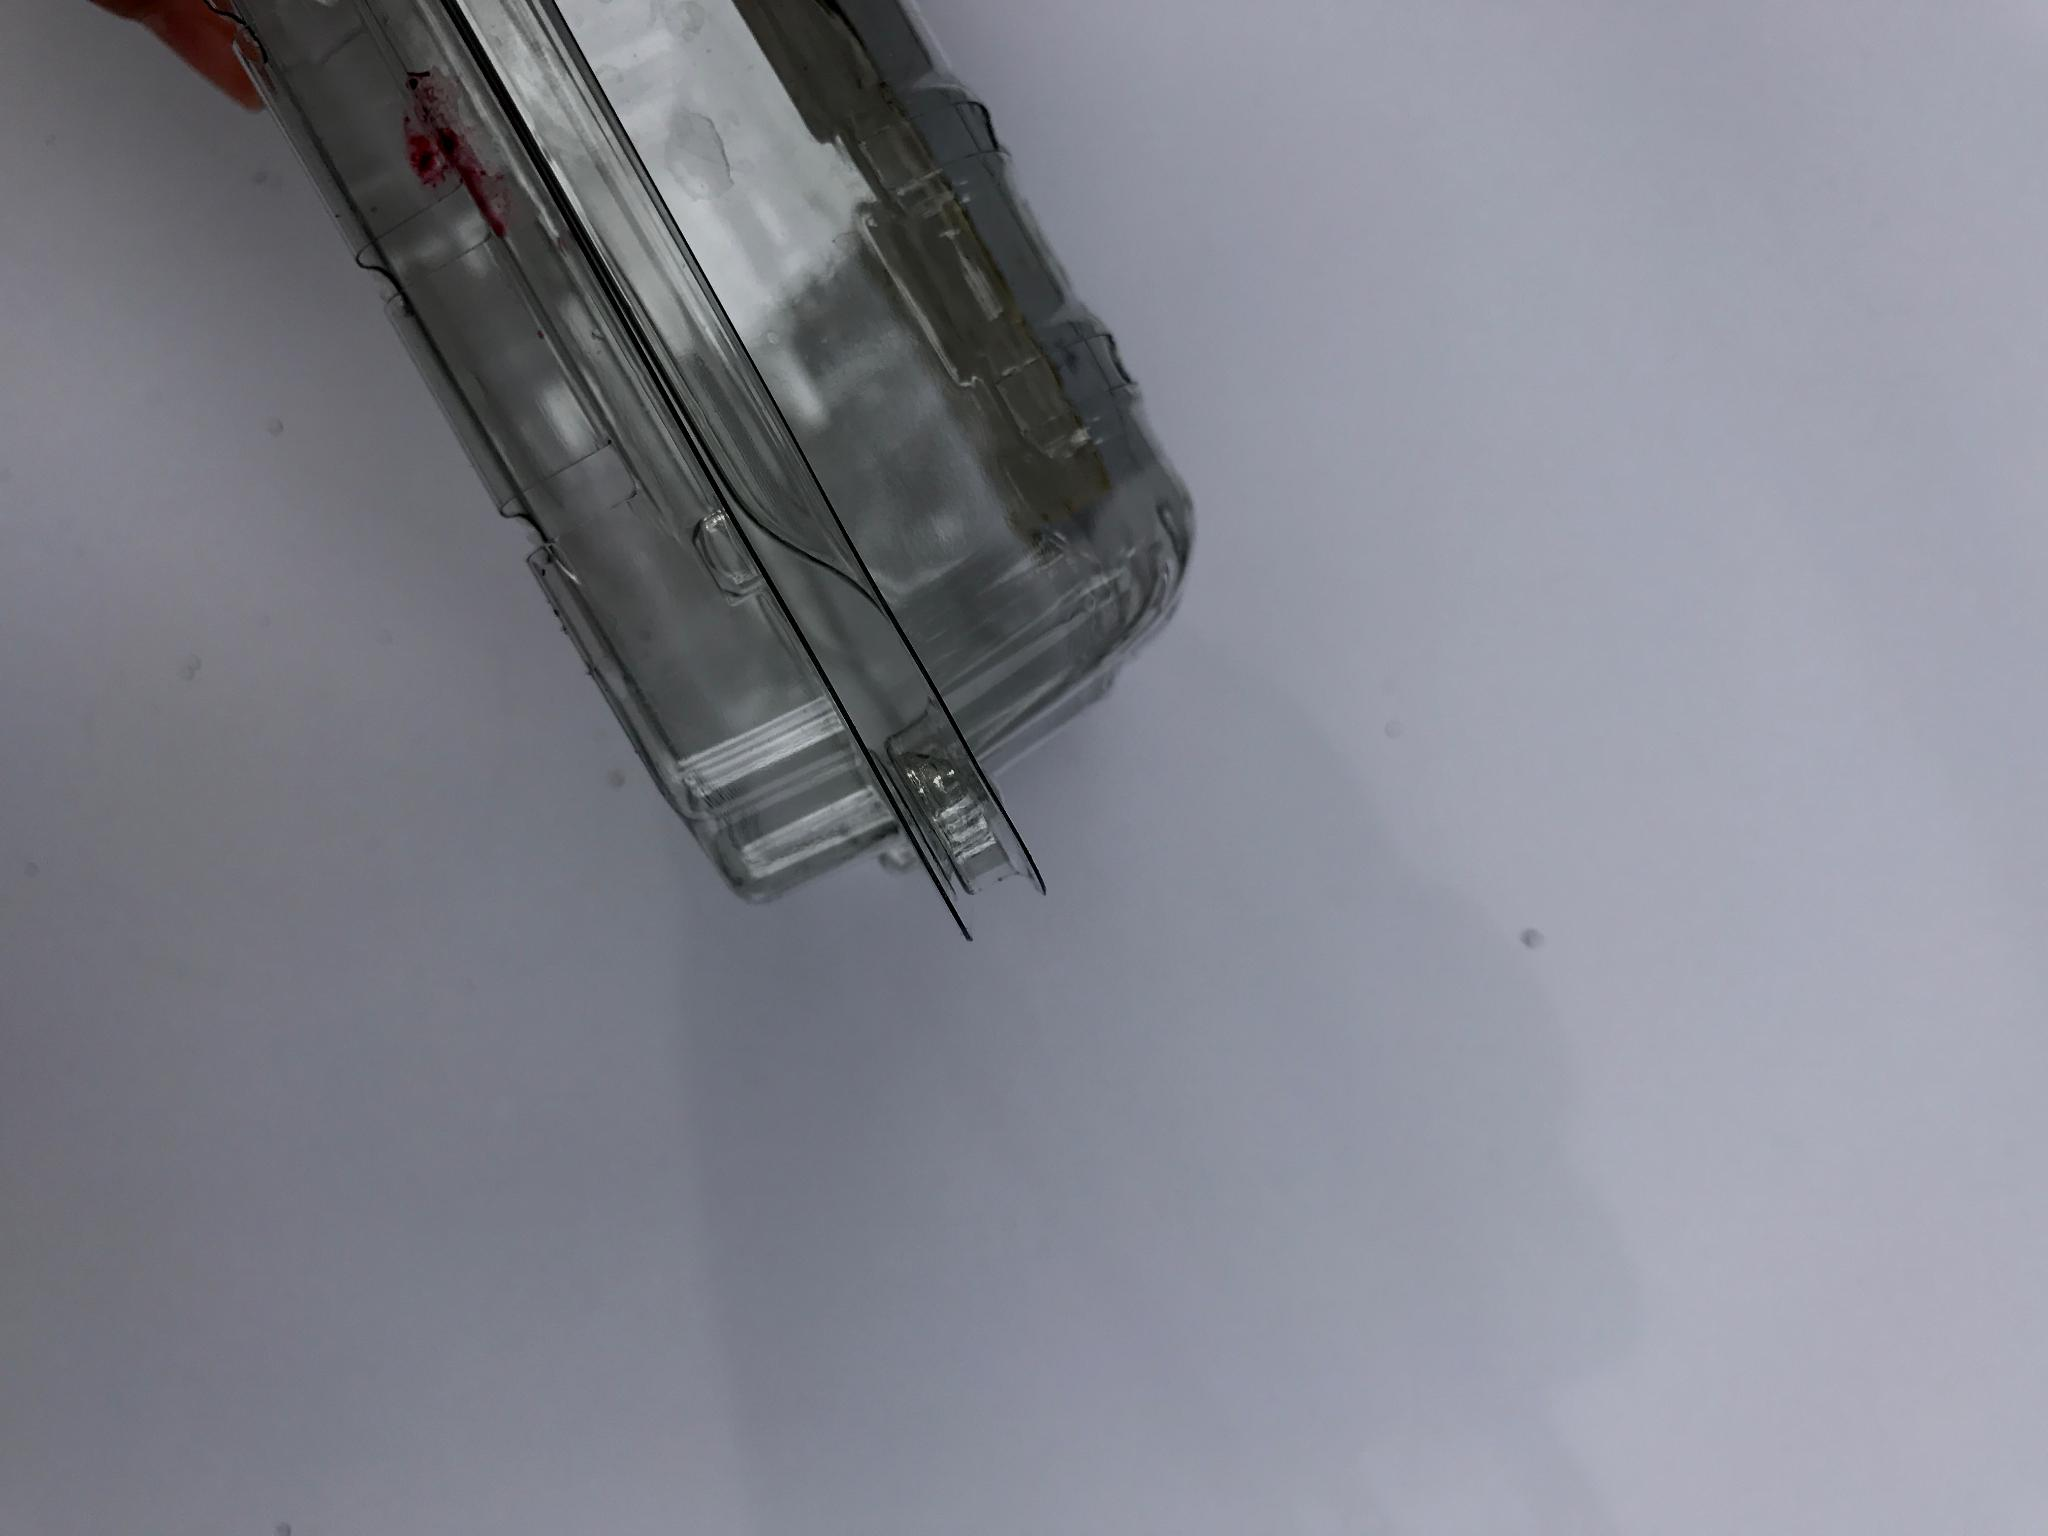Plastic: (47, 0, 1276, 979)
